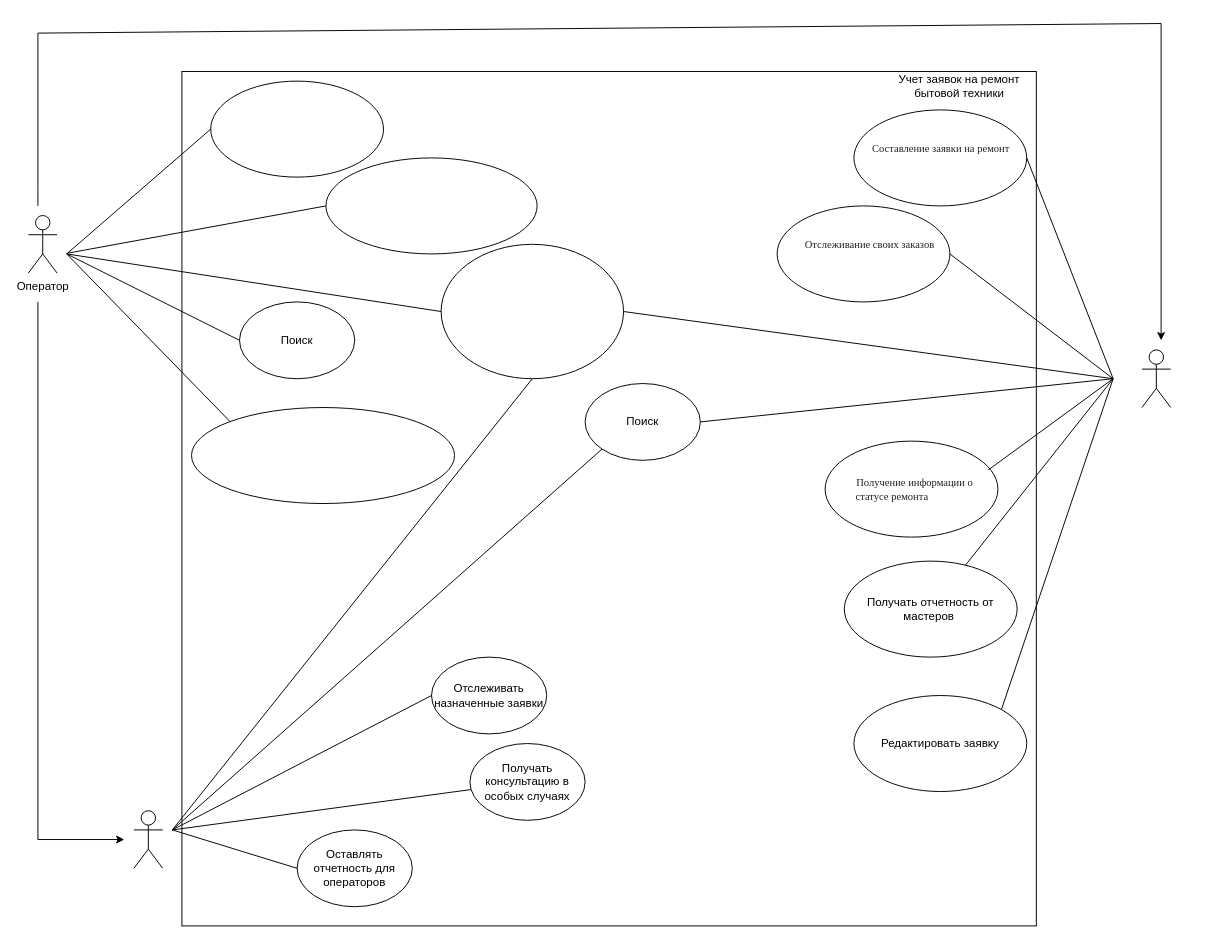
Image size: 1227x943. Some labels were removed from this diagram. Each missing label, with the box of its shape:
Авторизация: (440, 243, 624, 379)
анализ заявок и времени выполнения ремонта: (191, 407, 455, 504)
Клиент предприятия: (1141, 349, 1171, 408)
Мастер: (133, 810, 163, 868)
Обрабатывать заявку, определять ее приоритетность, назначать мастера: (325, 157, 537, 254)
Регистрировать заявку в системе учета: (210, 80, 384, 177)
